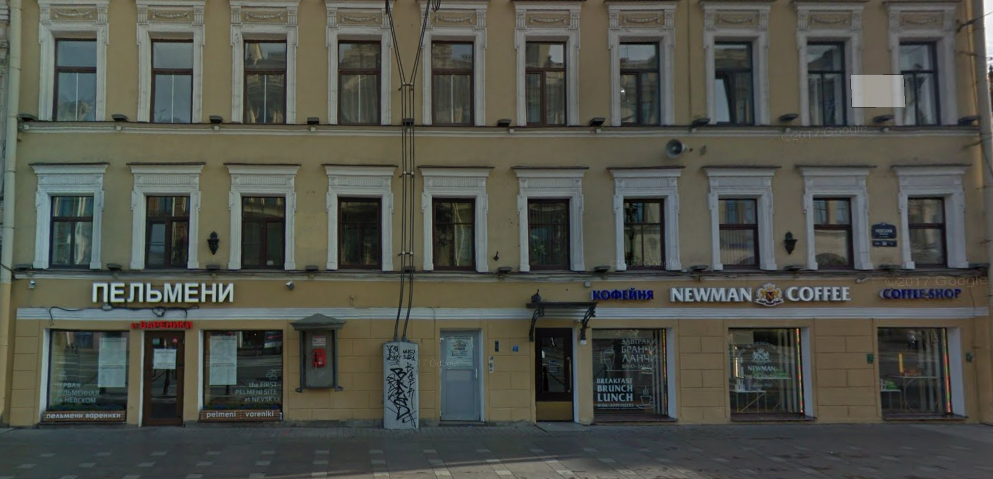door: (534, 328, 581, 422), (440, 330, 479, 428), (148, 333, 183, 427)
signboard: (671, 285, 850, 305), (94, 281, 233, 305), (883, 287, 964, 302), (592, 288, 654, 304), (126, 315, 195, 329)
window: (45, 330, 126, 413), (593, 330, 670, 417), (881, 328, 957, 415), (732, 330, 804, 420), (208, 331, 284, 413), (709, 42, 760, 123), (805, 40, 850, 129), (617, 39, 662, 126), (339, 40, 384, 126), (336, 196, 384, 271), (142, 196, 189, 271), (897, 42, 941, 122), (432, 42, 475, 123), (53, 44, 99, 119), (244, 42, 286, 124), (431, 196, 475, 272), (529, 197, 574, 271), (47, 195, 95, 264), (813, 198, 859, 270), (524, 42, 564, 124), (150, 43, 191, 123), (241, 193, 281, 270), (717, 198, 759, 271), (909, 198, 952, 269), (624, 198, 665, 272)
